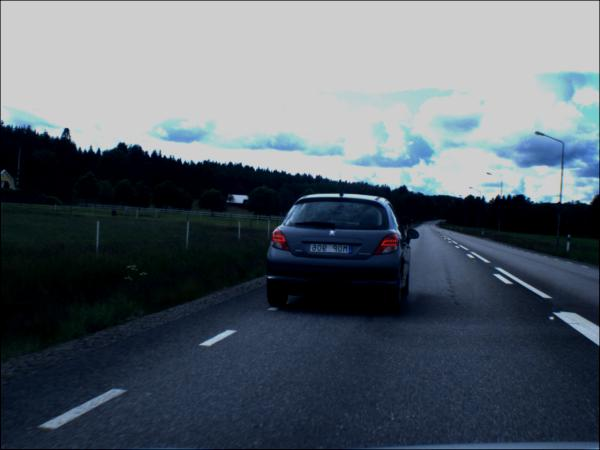80_SIGN: (510, 221, 517, 227)
